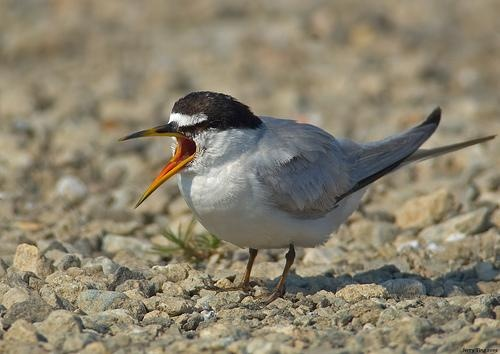bird: (116, 90, 484, 302)
